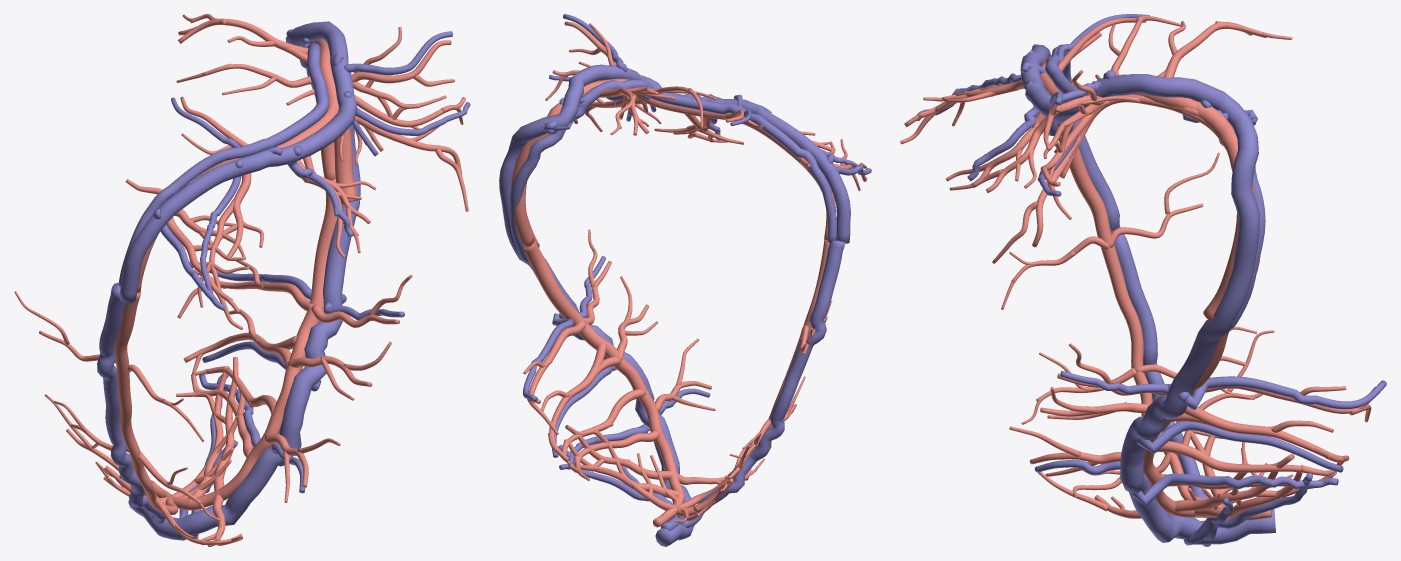
File: vessels_21.glb
3 renders of one model, left to right at view 1: azimuth 30°, elevation 25°; view 2: azimuth 150°, elevation 25°; view 3: azimuth 270°, elevation 25°, orthographic. The views are drawn at different scales.
Parts seen in each view (by area): view 1: Renderer Node; view 2: Renderer Node; view 3: Renderer Node.
Part boxes in pixels (x1=…): Renderer Node: x1=14, y1=14, x2=470, y2=546; Renderer Node: x1=499, y1=14, x2=871, y2=546; Renderer Node: x1=900, y1=14, x2=1386, y2=546.
Bounding box in the file's own units: 93.99 × 121 × 94.32.
